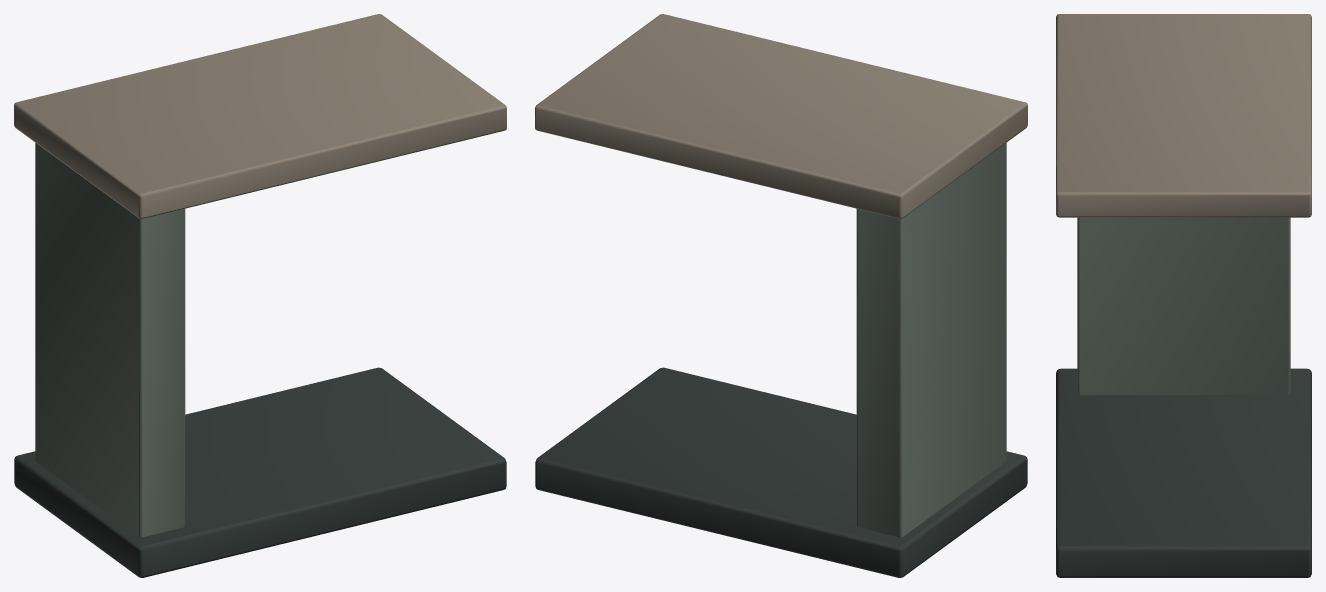
The model's file is SM_Frame_Cantilever.fbx.
3 renders of one model, left to right at view 1: azimuth 30°, elevation 25°; view 2: azimuth 150°, elevation 25°; view 3: azimuth 270°, elevation 25°, orthographic.
Visible parts, largest first — view 1: SM_Frame_Cantilever__Body; view 2: SM_Frame_Cantilever__Body; view 3: SM_Frame_Cantilever__Body.
Boxes of the visible parts, x1,y1,x2,y2 form: SM_Frame_Cantilever__Body: (14, 14, 506, 577); SM_Frame_Cantilever__Body: (535, 14, 1027, 577); SM_Frame_Cantilever__Body: (1056, 14, 1311, 577).
Size of the model in its own units: 1.2 by 1.2 by 0.72.
